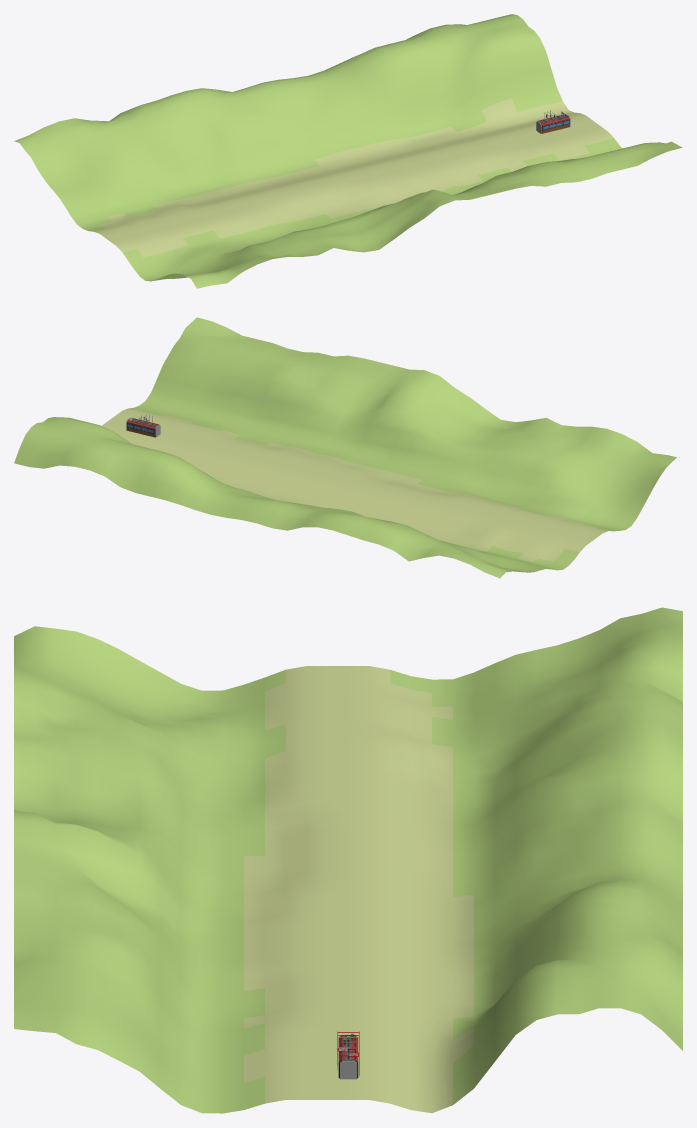
File: Train Background.fbx
The picture shows the model from 3 angles, top to bottom: view 1: azimuth 30°, elevation 25°; view 2: azimuth 150°, elevation 25°; view 3: azimuth 270°, elevation 25°; orthographic projection. The views are drawn at different scales.
Visible parts, largest first — view 1: Plane, Cube; view 2: Plane, Cube; view 3: Plane, Cube.
Part boxes in pixels (x1,y1,x2,y2): Plane: [14, 14, 682, 288]; Cube: [536, 114, 570, 133]; Plane: [14, 317, 679, 578]; Cube: [126, 417, 160, 437]; Plane: [14, 607, 682, 1113]; Cube: [338, 1034, 358, 1079].
Bounding box in the file's own units: 11878 × 1492 × 7739.
